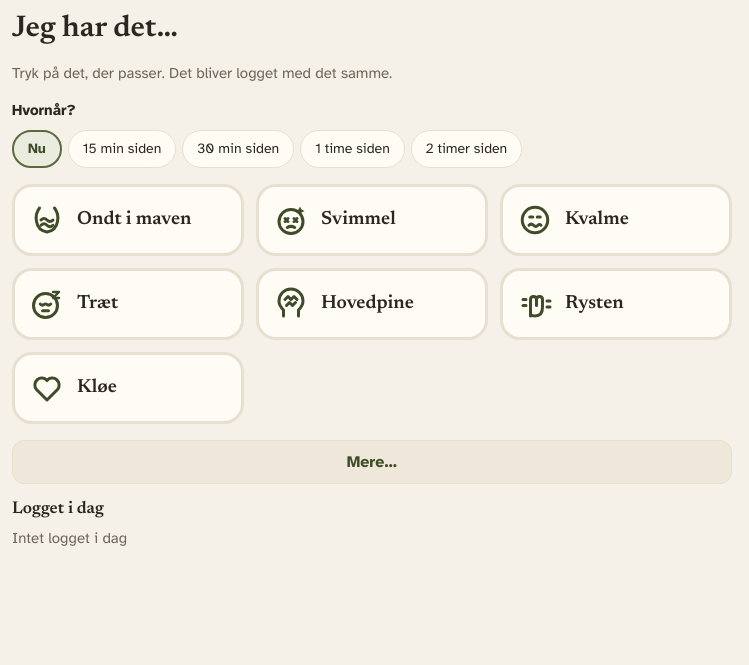
Scenario: Jeg har det… (the picker, plan §5) › Hvornår? starts at Nu, and a tile logs at the chosen time ago and says when
The width and height of the screenshot is (749, 665).
Step 1. Click the radio button labelled "30 min siden" → {"x": 238, "y": 149}, box top-left (182, 130), bottom-right (294, 168)
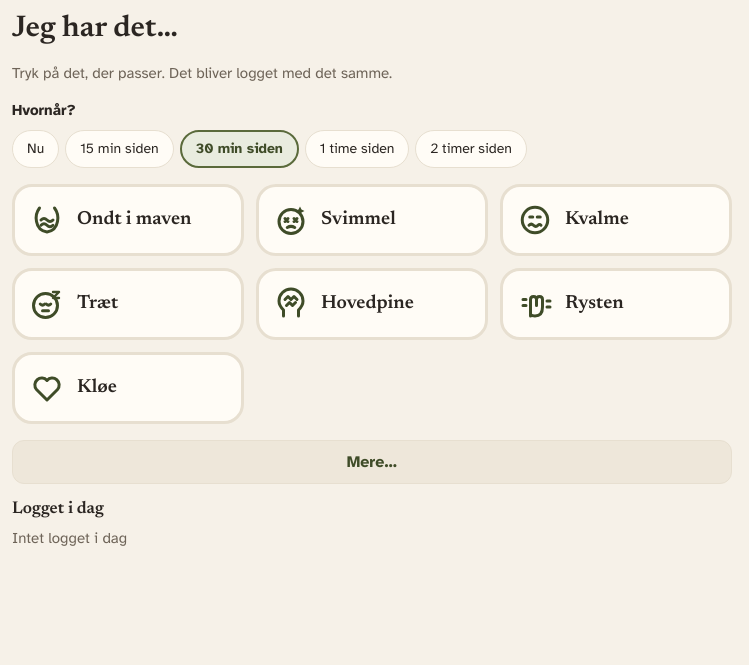
Step 2. Click the button "Hovedpine" → {"x": 372, "y": 304}, box top-left (256, 268), bottom-right (488, 340)
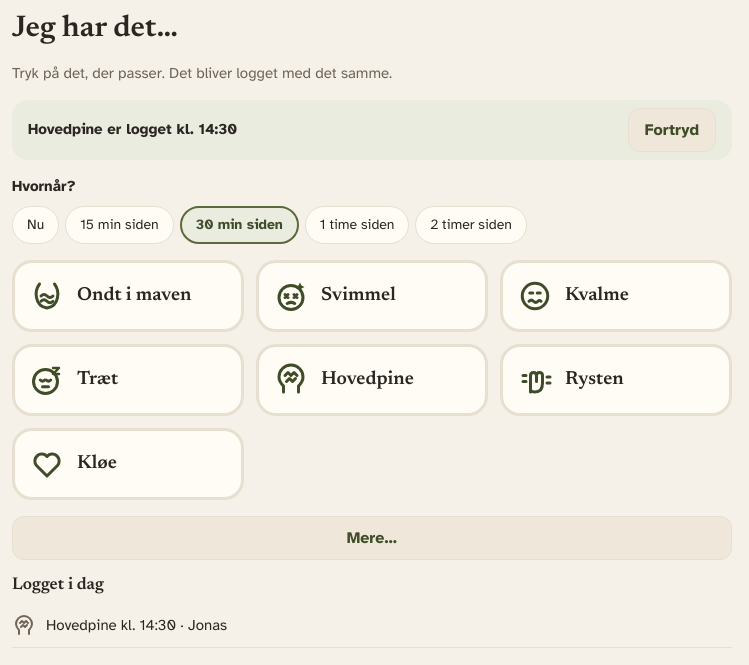
expect the message with test id "feel-status" shows "Hovedpine er logget kl. 14:30": met, box top-left (28, 120), bottom-right (237, 138)
